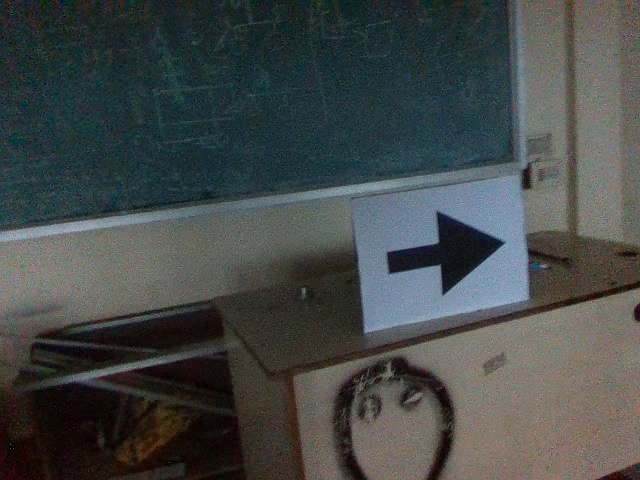Right: (384, 208, 509, 297)
